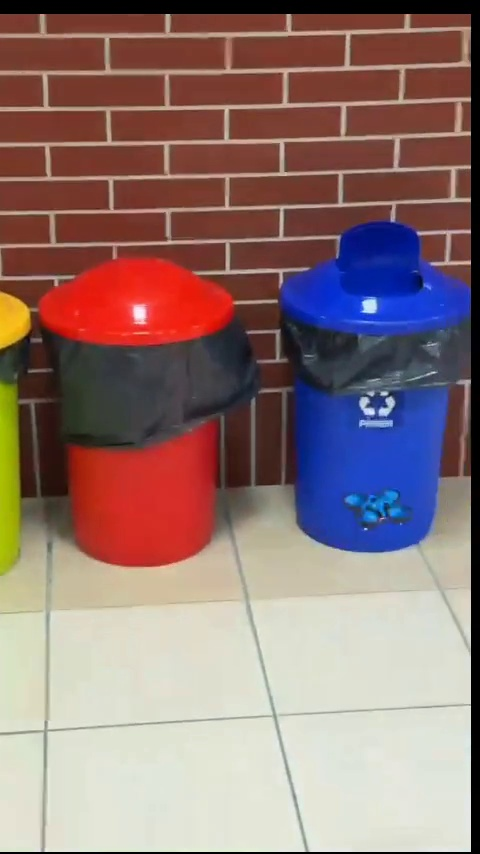drone: (344, 488, 413, 532)
